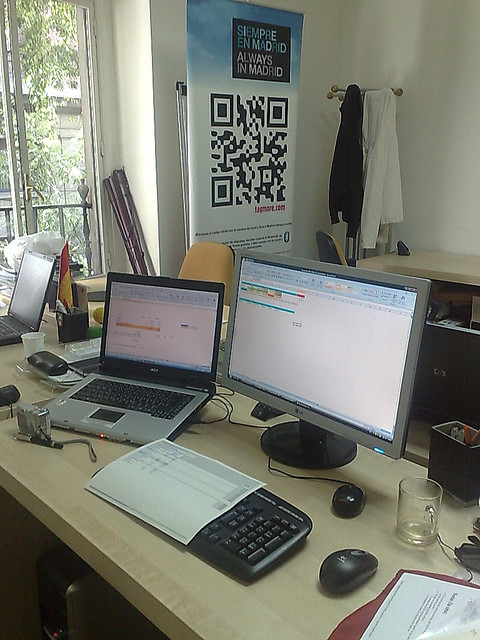QR-CODE: (211, 93, 287, 206)
